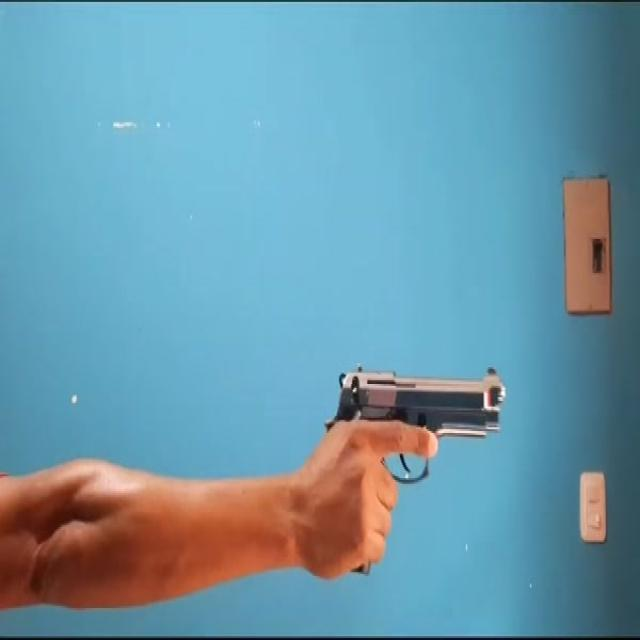weapon: (324, 363, 506, 484)
